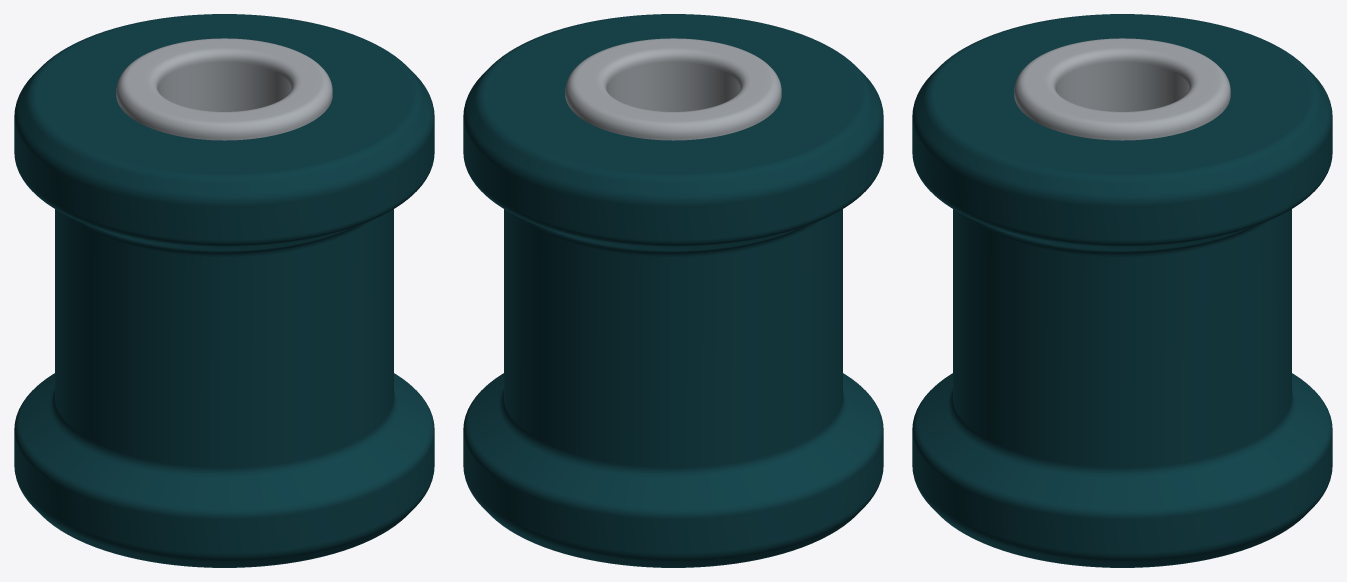
File: bushing.glb
The picture shows the model from 3 angles, left to right: view 1: azimuth 30°, elevation 25°; view 2: azimuth 150°, elevation 25°; view 3: azimuth 270°, elevation 25°; orthographic projection.
Visible parts, largest first — view 1: body; view 2: body; view 3: body.
Boxes of the visible parts, box(x1,y1,x2,y2) form: body: box(14, 14, 434, 567); body: box(463, 14, 883, 567); body: box(912, 14, 1332, 567).
Size of the model in its own units: 1.34 by 1.48 by 1.34.
